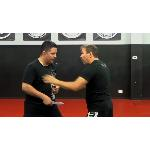Pisau: (40, 96, 66, 109)
